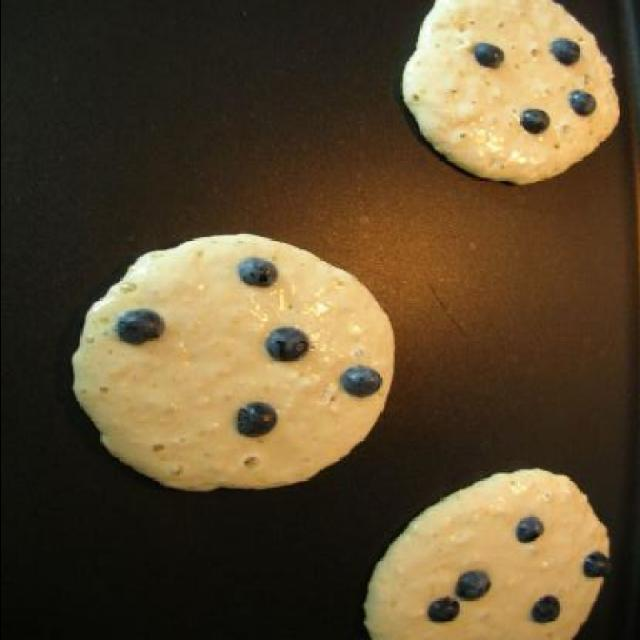Pancake: (70, 233, 396, 490), (367, 466, 611, 640), (400, 1, 622, 184)
